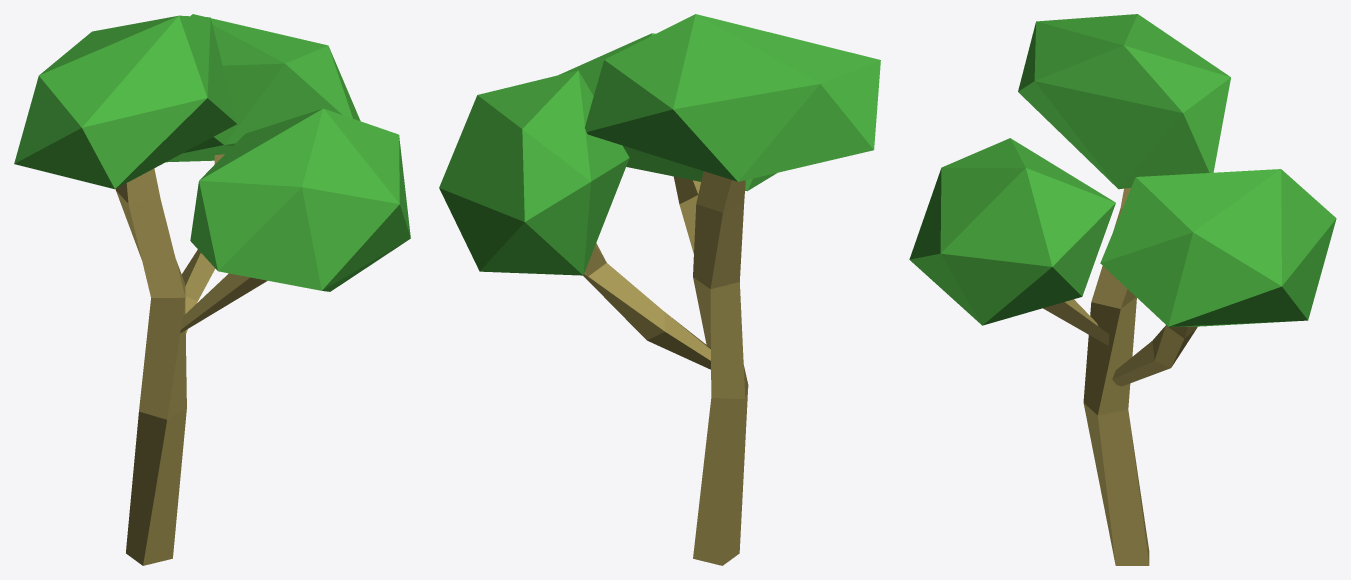
File: Tree_4.fbx
3 renders of one model, left to right at view 1: azimuth 30°, elevation 25°; view 2: azimuth 150°, elevation 25°; view 3: azimuth 270°, elevation 25°, orthographic. The views are drawn at different scales.
Visible parts, largest first — view 1: Leaves.001, Leaves.002, Trunk, Leaves, Trunk.001, Trunk.002; view 2: Leaves.002, Leaves, Trunk, Trunk.002, Leaves.001, Trunk.001; view 3: Leaves, Leaves.002, Leaves.001, Trunk, Trunk.002, Trunk.001.
Boxes of the visible parts, x1,y1,x2,y2 form: Leaves.001: (190, 108, 410, 291); Leaves.002: (14, 15, 237, 189); Trunk: (115, 168, 186, 565); Leaves: (166, 14, 360, 162); Trunk.001: (180, 273, 267, 333); Trunk.002: (182, 154, 224, 334); Leaves.002: (585, 14, 880, 181); Leaves: (439, 70, 629, 275); Trunk: (693, 171, 748, 565); Trunk.002: (583, 243, 710, 369); Leaves.001: (558, 33, 776, 191); Trunk.001: (674, 176, 700, 253); Leaves: (1100, 169, 1336, 326); Leaves.002: (1018, 14, 1230, 189); Leaves.001: (909, 138, 1115, 325); Trunk: (1083, 188, 1149, 565); Trunk.002: (1112, 325, 1197, 386); Trunk.001: (1043, 299, 1109, 345).
Bounding box in the file's own units: 239 × 321 × 237.
